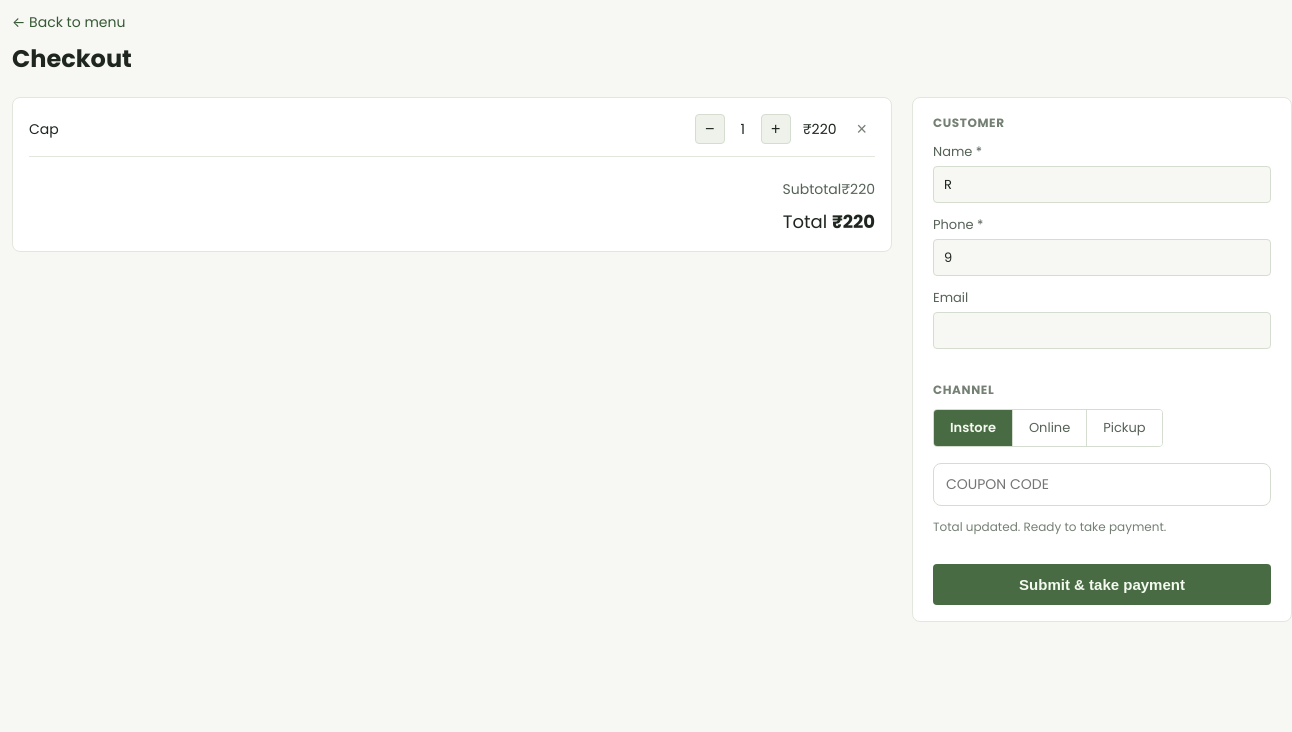
Test: CartPage › shows error and keeps cart on API error
Click the button "Submit & take payment": {"x": 1102, "y": 584} x1=933 y1=564 x2=1271 y2=604
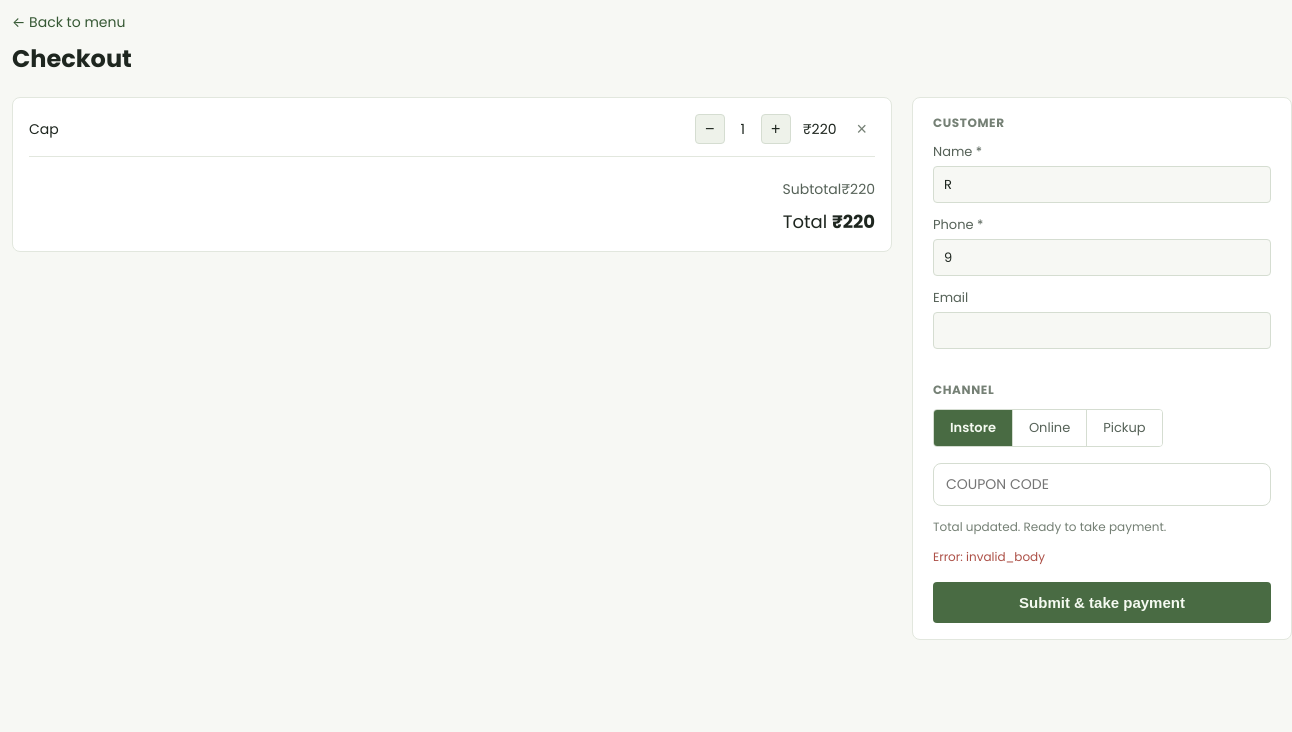
Check: the text "Error: invalid_body" is shown, box x1=933 y1=548 x2=1045 y2=564
